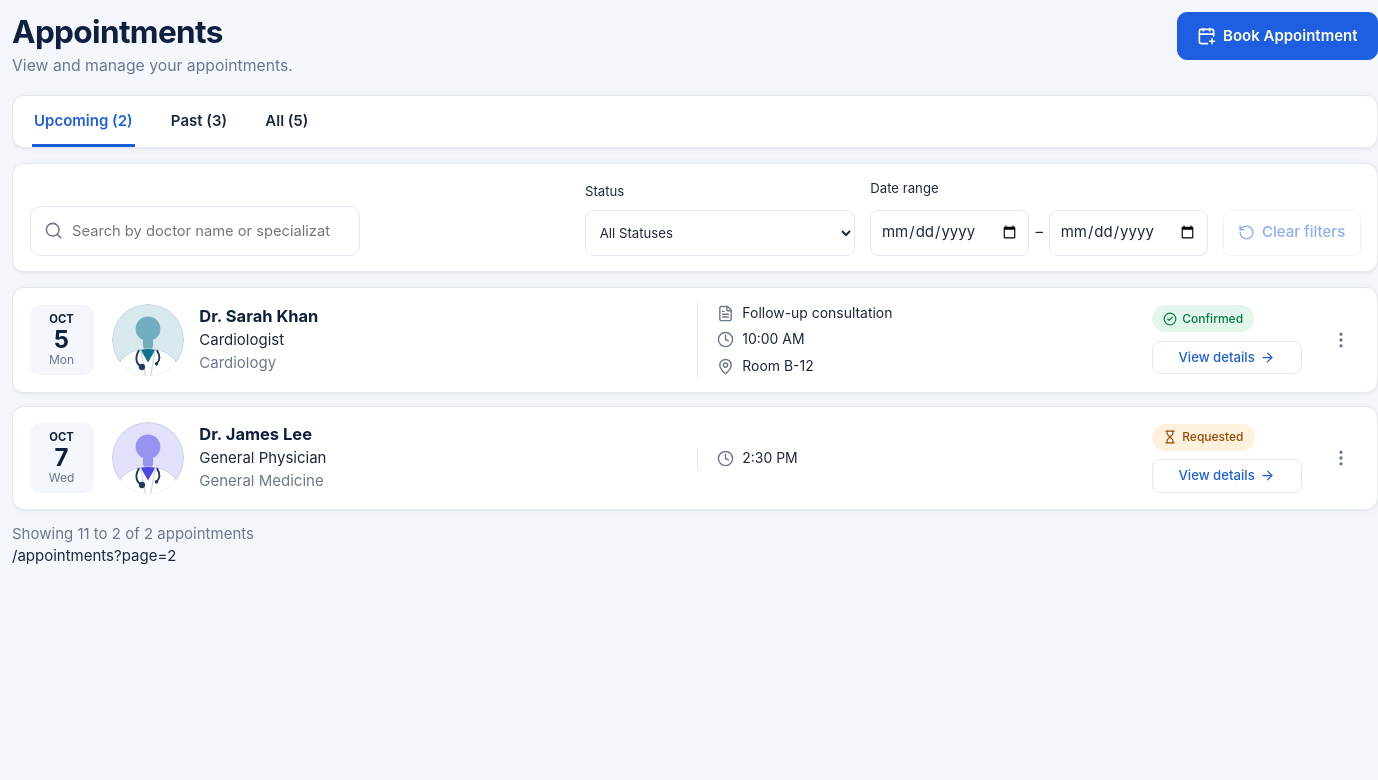
Test: search and filters › searches after typing stops, and starts again from page 1
Type "lee" into the search field labelled "Search by doctor name or specialization…" at coordinates (208, 230), box [72, 210, 345, 250]
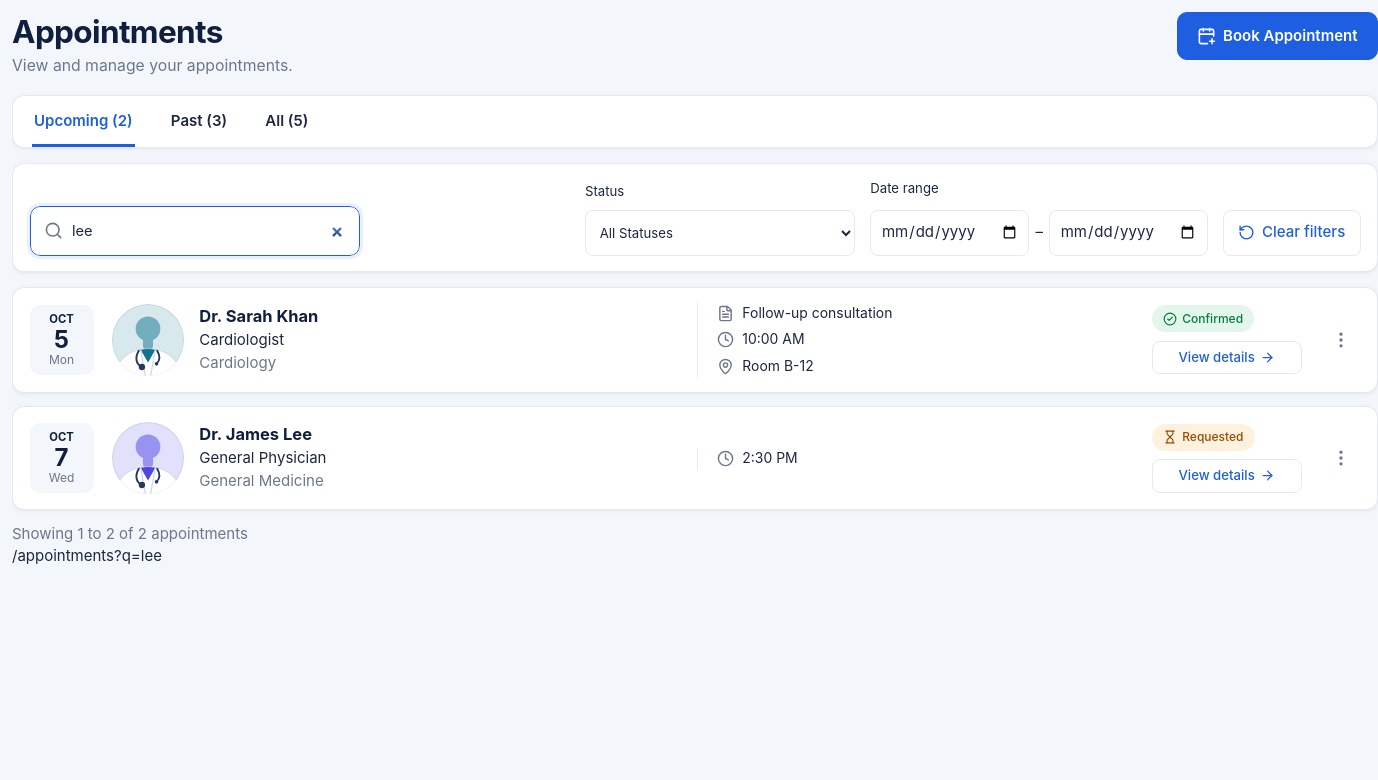
Now the text with test id "where" reads "/appointments?q=lee", box [12, 546, 162, 565]
